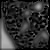node: (32, 1, 43, 12), (19, 23, 31, 32), (22, 10, 31, 18)
